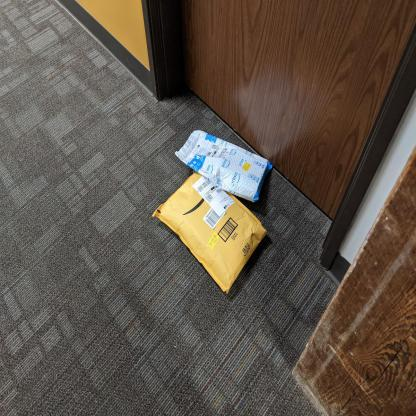package: (150, 171, 270, 298), (173, 127, 276, 206)
